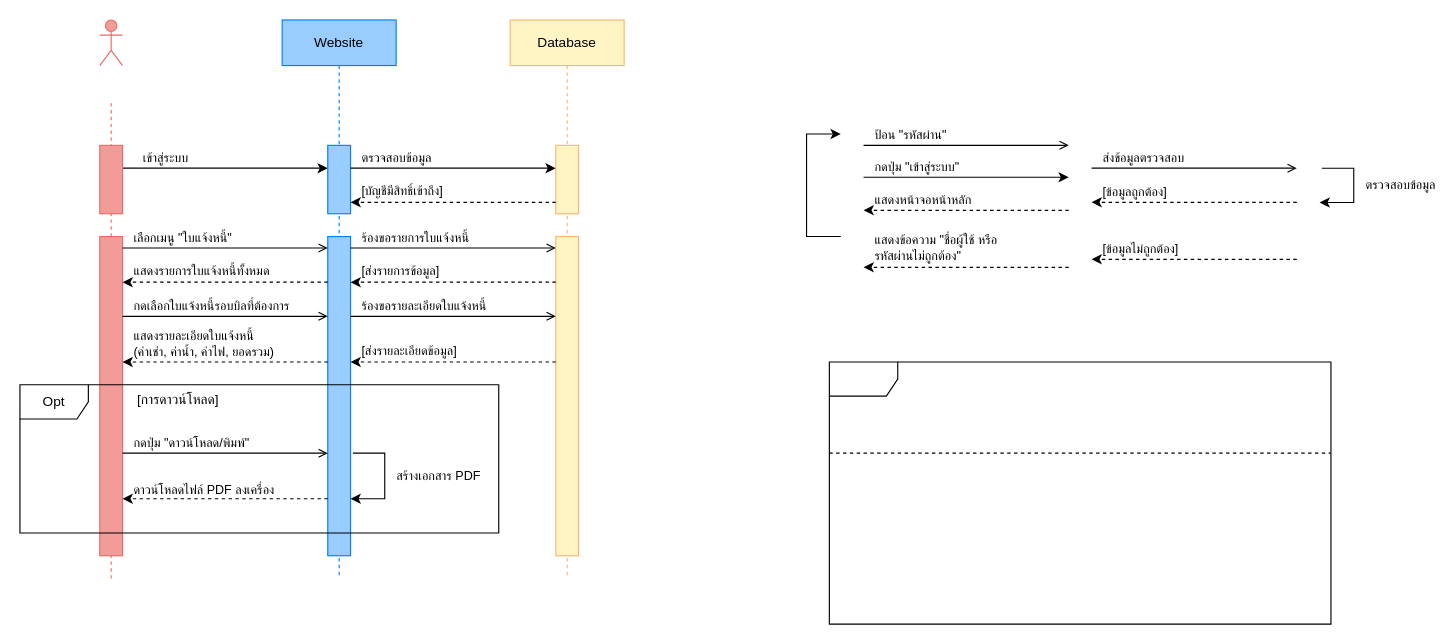
Some shapes in this 1455 by 644 pixel diagram are drawn without their labels. Here are the shapes that lost their labels. From the top down, the centre of each, then its label:
At (x=111, y=42): "พนักงานฯ , ผู้จัดการฯ, เจ้าของบริษัท".
At (x=1079, y=492): "alt".
